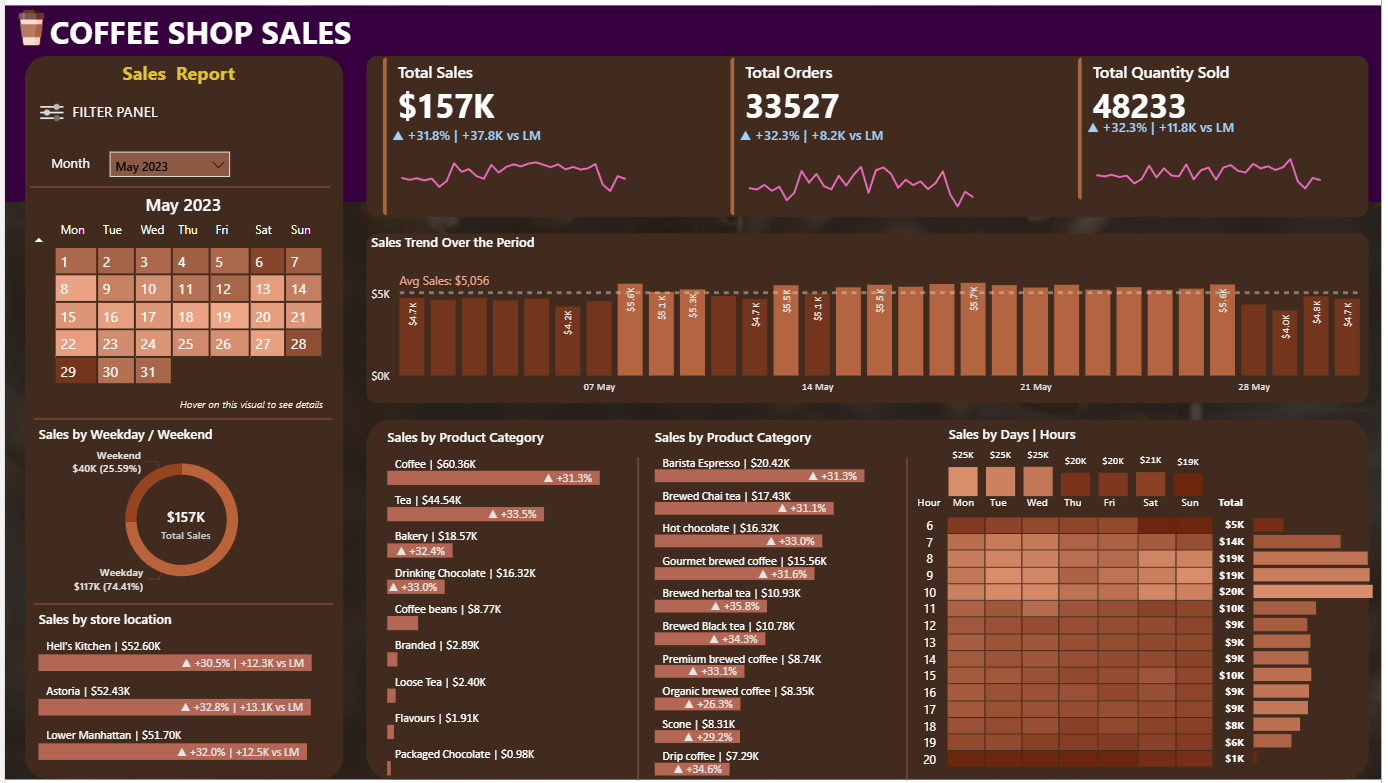

What the dashboard file says about the page in this screenshot:
{"tool":"powerbi","page":{"name":"Page 1","canvas":[1400,850],"ordinal":0},"visuals":[{"type":"shape","box":[0,29.3,1400.3,199.7],"z":0},{"type":"shape","box":[20,80,324.3,736],"z":1000},{"type":"shape","box":[367.1,80,1020,164.3],"z":2000},{"type":"textbox","box":[41.4,28.6,325.7,57.1],"z":3000,"group":"g4"},{"type":"cardVisual","fields":{"Data":["Transactions.Total Sales"]},"box":[367.6,64.9,312.9,195.9],"z":4000,"group":"g1"},{"type":"cardVisual","fields":{"Data":["Transactions.Total Orders"]},"box":[721.1,64.9,312.9,195.9],"z":4000,"group":"g2"},{"type":"cardVisual","fields":{"Data":["Transactions.Total Quantity Sold"]},"box":[1074.7,64.9,312.9,179.3],"z":4000,"group":"g3"},{"type":"slicer","fields":{"Values":["Date Table.Month Year"]},"box":[101.7,173,132.3,34.3],"z":4000},{"type":"group","id":"g1","title":"Group 1","box":[367.6,64.9,312.9,195.9],"z":5000},{"type":"lineChart","fields":{"Category":["Date Table.Date.Variation.Date Hierarchy.Year"],"Y":["Transactions.Total Quantity Sold"]},"box":[1096.3,144.1,256.9,81.5],"z":5001,"group":"g3"},{"type":"lineChart","fields":{"Category":["Date Table.Date.Variation.Date Hierarchy.Year"],"Y":["Transactions.Total Sales"]},"box":[389.2,151.4,256.9,89],"z":5001,"group":"g1"},{"type":"lineChart","fields":{"Category":["Date Table.Date.Variation.Date Hierarchy.Year"],"Y":["Transactions.Total Orders"]},"box":[742.7,151.4,256.9,89],"z":5001,"group":"g2"},{"type":"group","id":"g2","title":"Group 1","box":[721.1,64.9,312.9,195.9],"z":6000},{"type":"group","id":"g3","title":"Group 1","box":[1074.7,64.9,312.9,179.3],"z":7000},{"type":"pivotTable","fields":{"Rows":["Date Table.Week Number"],"Columns":["Date Table.Day Name"],"Values":["Min(Date Table.Day Number)"]},"box":[20.3,240.4,310.3,214.9],"z":8000},{"type":"cardVisual","fields":{"Data":["Min(Date Table.Month Year)"]},"box":[86.5,198.4,190.8,62.3],"z":9000},{"type":"cardVisual","fields":{"Data":["Transactions.Foot Note"]},"box":[134.8,408.2,232.7,50.9],"z":10000},{"type":"shape","box":[29.3,443.9,304,11.4],"z":11000},{"type":"shape","box":[25.4,207.3,305.2,12.7],"z":12000},{"type":"donutChart","title":" Sales by Weekday / Weekend","fields":{"Category":["Date Table.Weekday / Weekend"],"Y":["Transactions.Total Sales"]},"box":[29.3,455.3,301.4,176.8],"z":13000},{"type":"cardVisual","fields":{"Data":["Transactions.Total Sales"]},"box":[117,522.7,134.8,67.4],"z":14000},{"type":"shape","box":[29.3,632.1,305.2,11.4],"z":15000},{"type":"clusteredBarChart","title":" Sales by store location","fields":{"Category":["Transactions.store_location"],"Y":["Transactions.Placeholder","Transactions.Total Sales"]},"box":[29.3,643.5,315.4,160.2],"z":16000},{"type":"shape","box":[367.6,260.7,1020,173],"z":17000},{"type":"columnChart","title":"Sales Trend Over the Period","fields":{"Category":["Transactions.transaction_date"],"Y":["Transactions.Total Sales"]},"box":[367.6,260.7,1020,173],"z":18000},{"type":"shape","box":[367.6,450.2,1020,366.3],"z":19000},{"type":"clusteredBarChart","title":" Sales by Product Category","fields":{"Y":["Transactions.Placeholder","Transactions.Total Sales"],"Category":["Transactions.product_category"]},"box":[384.1,459.1,256.9,358.6],"z":20000},{"type":"shape","box":[607.9,488.4,72.5,329.4],"z":21000},{"type":"clusteredBarChart","title":" Sales by Product Category","fields":{"Y":["Transactions.Placeholder","Transactions.Total Sales"],"Category":["Transactions.product_type"]},"box":[656.3,459.1,256.9,358.6],"z":22000},{"type":"shape","box":[871.2,488.4,92.8,329.4],"z":23000},{"type":"pivotTable","fields":{"Rows":["Transactions.Hour"],"Columns":["Date Table.Day Name"],"Values":["Transactions.Total Sales"]},"box":[918.2,522.7,365,286],"z":24000},{"type":"barChart","fields":{"Category":["Transactions.Hour"],"Y":["Transactions.Total Sales"]},"box":[1265,538,133.5,268],"z":25000},{"type":"columnChart","title":" Sales by Days | Hours","fields":{"Y":["Transactions.Total Sales"],"Category":["Date Table.Day Name"]},"box":[955.1,455.3,269.6,78.9],"z":26000},{"type":"textbox","box":[42,175.5,57.2,31.8],"z":27000},{"type":"textbox","box":[114.5,80.1,134.8,35.6],"z":28000},{"type":"textbox","box":[63.6,122.1,104.3,39.4],"z":29000},{"type":"image","box":[35,126,24,24],"z":30000},{"type":"image","box":[9,25,35.6,52.1],"z":31000,"group":"g4"},{"type":"group","id":"g4","title":"Group 2","box":[9,25,358.1,60.7],"z":31001}]}

Visuals, with their boxes on the page's 1400x850 design canvas (x1, y1, x2, y2). These are canvas units, not pixel positions in the 1388x783 screenshot, which may show the page scaled, cropped or inside an application window:
shape: crop(0, 29, 1400, 229)
shape: crop(20, 80, 344, 816)
shape: crop(367, 80, 1387, 244)
textbox: crop(41, 29, 367, 86)
cardVisual - Transactions.Total Sales: crop(368, 65, 680, 261)
cardVisual - Transactions.Total Orders: crop(721, 65, 1034, 261)
cardVisual - Transactions.Total Quantity Sold: crop(1075, 65, 1388, 244)
slicer - Date Table.Month Year: crop(102, 173, 234, 207)
"Group 1" group: crop(368, 65, 680, 261)
lineChart - Date Table.Date.Variation.Date Hierarchy.Year x Transactions.Total Quantity Sold: crop(1096, 144, 1353, 226)
lineChart - Date Table.Date.Variation.Date Hierarchy.Year x Transactions.Total Sales: crop(389, 151, 646, 240)
lineChart - Date Table.Date.Variation.Date Hierarchy.Year x Transactions.Total Orders: crop(743, 151, 1000, 240)
"Group 1" group: crop(721, 65, 1034, 261)
"Group 1" group: crop(1075, 65, 1388, 244)
pivotTable - Date Table.Week Number x Date Table.Day Name: crop(20, 240, 331, 455)
cardVisual - Min(Date Table.Month Year): crop(86, 198, 277, 261)
cardVisual - Transactions.Foot Note: crop(135, 408, 368, 459)
shape: crop(29, 444, 333, 455)
shape: crop(25, 207, 331, 220)
" Sales by Weekday / Weekend" donutChart: crop(29, 455, 331, 632)
cardVisual - Transactions.Total Sales: crop(117, 523, 252, 590)
shape: crop(29, 632, 334, 644)
" Sales by store location" clusteredBarChart: crop(29, 644, 345, 804)
shape: crop(368, 261, 1388, 434)
"Sales Trend Over the Period" columnChart: crop(368, 261, 1388, 434)
shape: crop(368, 450, 1388, 816)
" Sales by Product Category" clusteredBarChart: crop(384, 459, 641, 818)
shape: crop(608, 488, 680, 818)
" Sales by Product Category" clusteredBarChart: crop(656, 459, 913, 818)
shape: crop(871, 488, 964, 818)
pivotTable - Transactions.Hour x Date Table.Day Name: crop(918, 523, 1283, 809)
barChart - Transactions.Hour x Transactions.Total Sales: crop(1265, 538, 1398, 806)
" Sales by Days | Hours" columnChart: crop(955, 455, 1225, 534)
textbox: crop(42, 176, 99, 207)
textbox: crop(114, 80, 249, 116)
textbox: crop(64, 122, 168, 162)
image: crop(35, 126, 59, 150)
image: crop(9, 25, 45, 77)
"Group 2" group: crop(9, 25, 367, 86)
